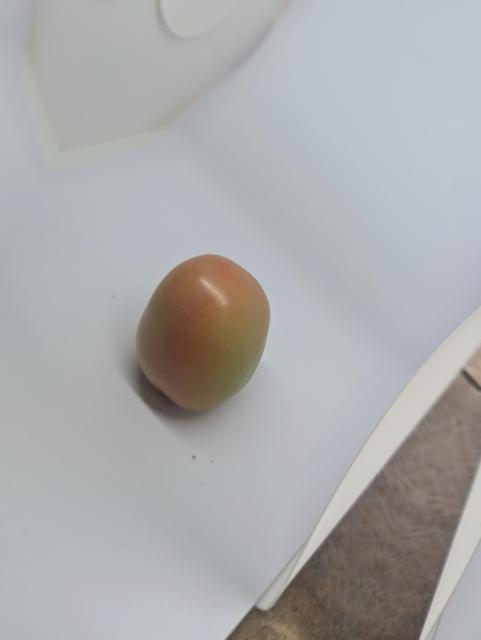turning: (133, 251, 278, 418)
